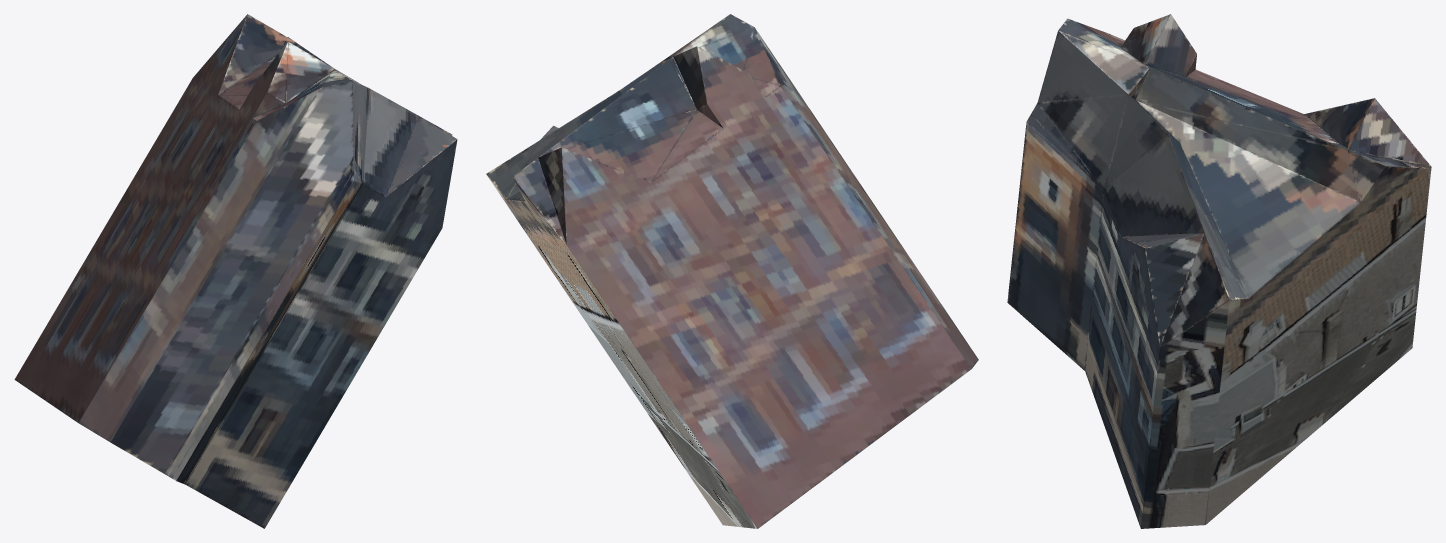
3 renders of one model, left to right at view 1: azimuth 30°, elevation 25°; view 2: azimuth 150°, elevation 25°; view 3: azimuth 270°, elevation 25°, orthographic. The views are drawn at different scales.
Parts seen in each view (by area): view 1: BAG_0599100000631930 (×6); view 2: BAG_0599100000631930 (×6); view 3: BAG_0599100000631930 (×7).
Boxes of the visible parts, x1=… form: BAG_0599100000631930 (×6): x1=14, y1=14, x2=457, y2=528; BAG_0599100000631930 (×6): x1=486, y1=14, x2=978, y2=528; BAG_0599100000631930 (×7): x1=1007, y1=14, x2=1431, y2=528.
Size of the model in its own units: 19.99 by 20.59 by 14.79.
Materials: 1 (1 with a texture image).
